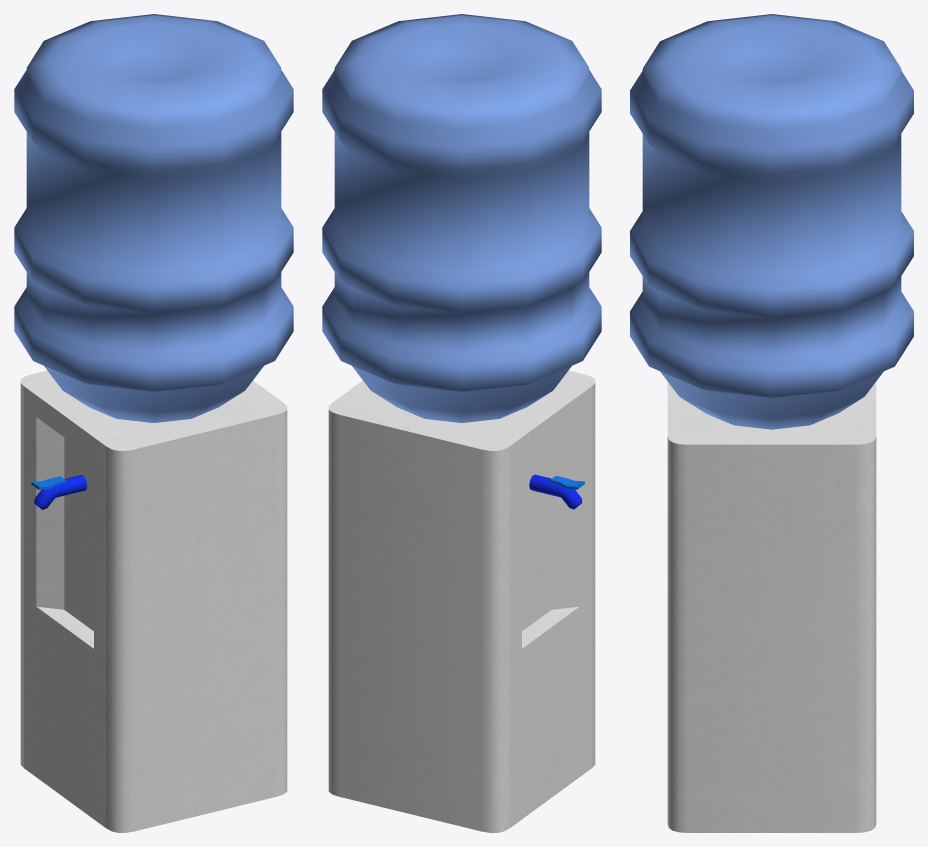
Rendered from WaterCooler.FBX.
3 renders of one model, left to right at view 1: azimuth 30°, elevation 25°; view 2: azimuth 150°, elevation 25°; view 3: azimuth 270°, elevation 25°, orthographic.
Visible parts, largest first — view 1: WaterCooler-Blockout, WaterTank; view 2: WaterCooler-Blockout, WaterTank; view 3: WaterTank, WaterCooler-Blockout.
Part boxes in pixels (left/top/right/bottom): WaterCooler-Blockout: left=20, top=370, right=287, bottom=832; WaterTank: left=14, top=14, right=293, bottom=422; WaterCooler-Blockout: left=328, top=370, right=595, bottom=832; WaterTank: left=322, top=14, right=601, bottom=422; WaterTank: left=630, top=14, right=913, bottom=429; WaterCooler-Blockout: left=667, top=382, right=876, bottom=832.
Bounding box in the file's own units: 0.6803 × 0.6803 × 1.94.
2 materials, 1 textured.
